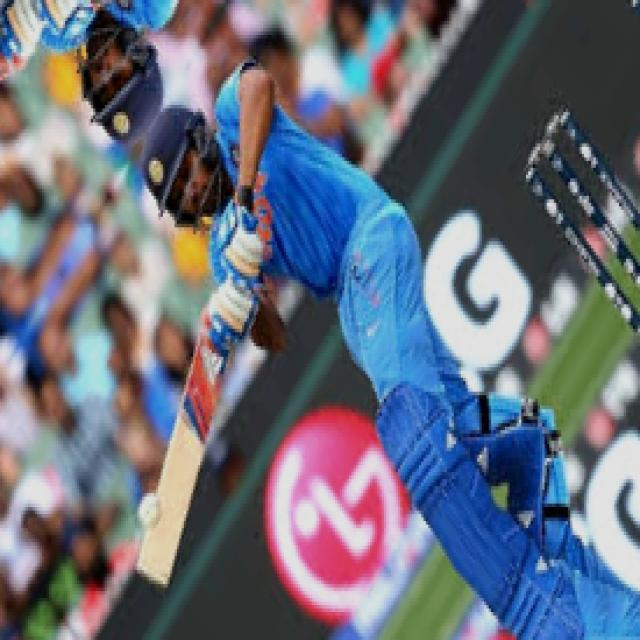toe: (138, 555, 172, 594)
